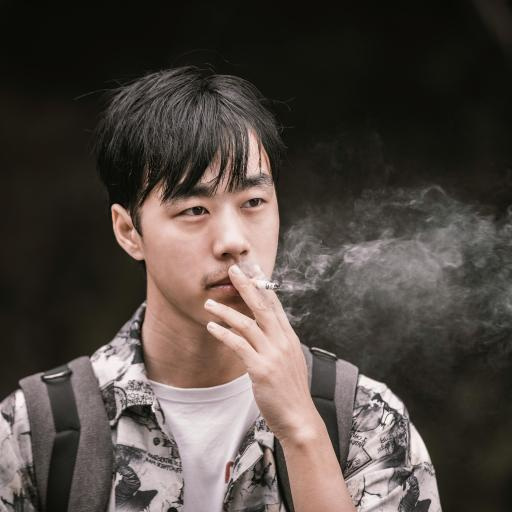terdeteksi merokok: (177, 164, 296, 333)
